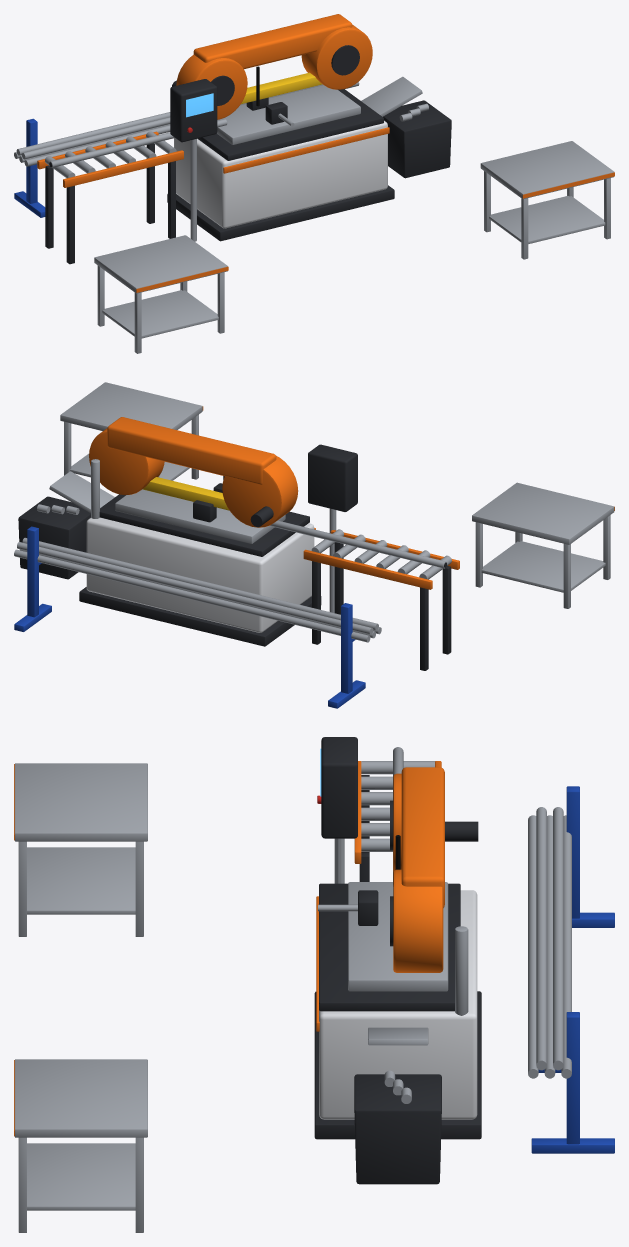
The model's file is Station_Cutting.fbx.
3 views of the same model, one above another, from view 1: azimuth 30°, elevation 25°; view 2: azimuth 150°, elevation 25°; view 3: azimuth 270°, elevation 25° (orthographic). The views are drawn at different scales.
Visible parts, largest first — view 1: Band Saw, Inbound Table, Outbound Table, Infeed Conveyor, Outfeed Chute, Bar Rack; view 2: Band Saw, Bar Rack, Inbound Table, Infeed Conveyor, Outbound Table, Outfeed Chute; view 3: Band Saw, Inbound Table, Outbound Table, Bar Rack, Outfeed Chute, Infeed Conveyor.
Part boxes in pixels (x1,y1,x2,y2): Band Saw: [167, 14, 394, 241]; Inbound Table: [94, 235, 228, 353]; Outbound Table: [480, 141, 614, 259]; Infeed Conveyor: [37, 119, 227, 264]; Outfeed Chute: [361, 76, 451, 178]; Bar Rack: [14, 81, 359, 217]; Band Saw: [79, 417, 357, 646]; Bar Rack: [14, 526, 381, 708]; Inbound Table: [472, 482, 614, 608]; Infeed Conveyor: [269, 520, 459, 670]; Outbound Table: [60, 382, 203, 480]; Outfeed Chute: [18, 471, 114, 579]; Band Saw: [314, 737, 481, 1139]; Inbound Table: [14, 763, 147, 936]; Outbound Table: [14, 1059, 147, 1232]; Bar Rack: [528, 786, 614, 1153]; Outfeed Chute: [354, 1027, 441, 1184]; Infeed Conveyor: [354, 747, 441, 886].
Size of the model in its own units: 5.2 by 1.66 by 3.6.
